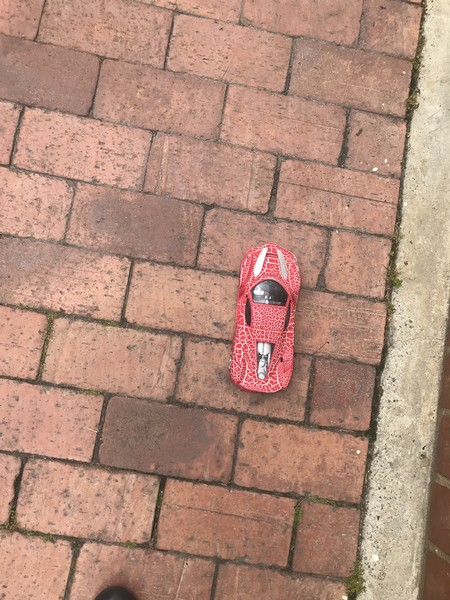RC: (226, 239, 306, 397)
